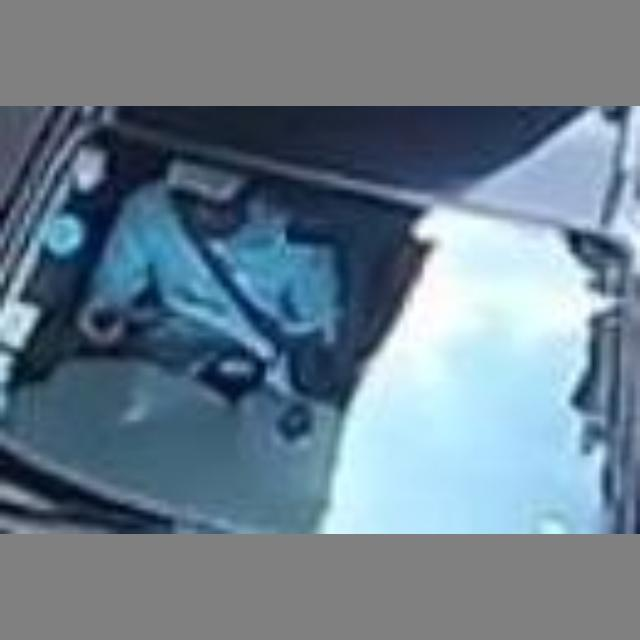pakai: (98, 136, 330, 396)
